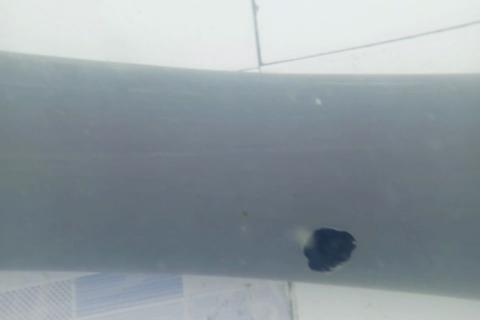kebocoran: (299, 225, 358, 274)
